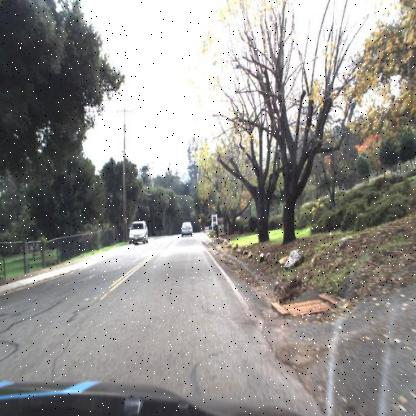car: (119, 217, 149, 249), (178, 219, 194, 242)
